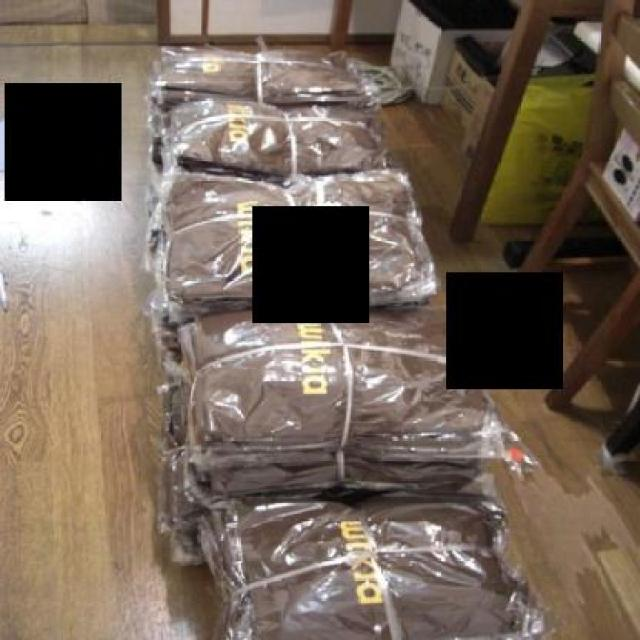plastic bag: (142, 47, 549, 638)
